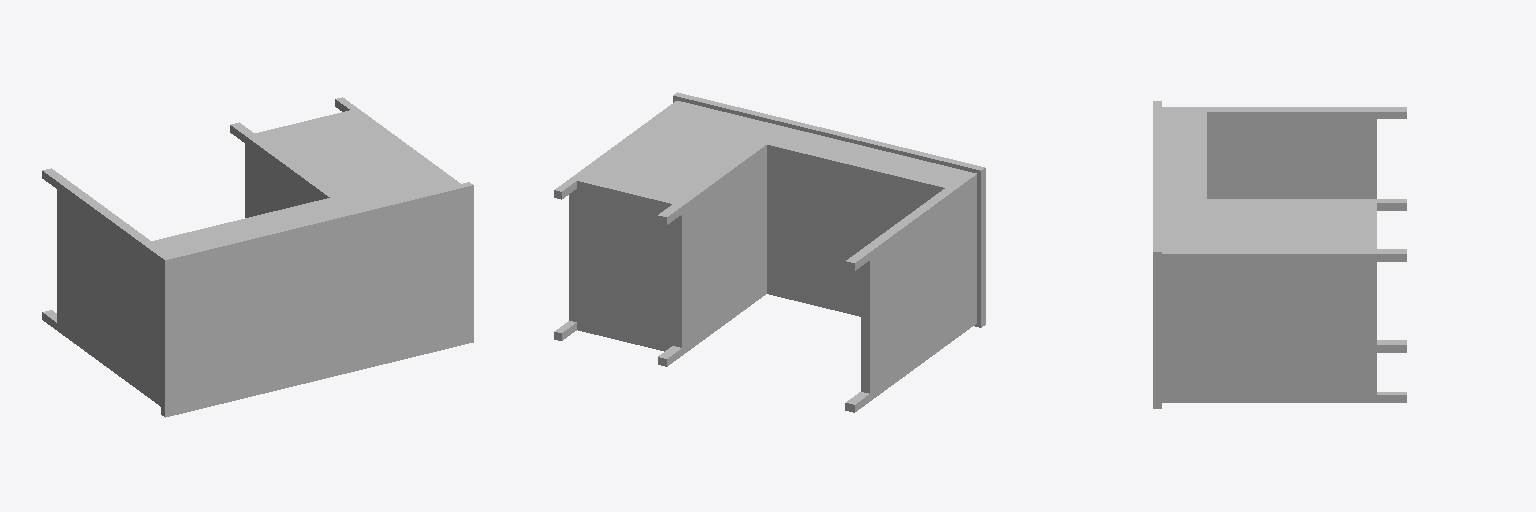
The model's file is table.obj.
3 renders of one model, left to right at view 1: azimuth 30°, elevation 25°; view 2: azimuth 150°, elevation 25°; view 3: azimuth 270°, elevation 25°, orthographic.
Parts seen in each view (by area): view 1: desk; view 2: desk; view 3: desk.
Part boxes in pixels (left/top/right/bottom): desk: left=42, top=97, right=473, bottom=417; desk: left=554, top=92, right=985, bottom=412; desk: left=1153, top=101, right=1406, bottom=408.
Bounding box in the file's own units: 41 × 20.25 × 29.25.